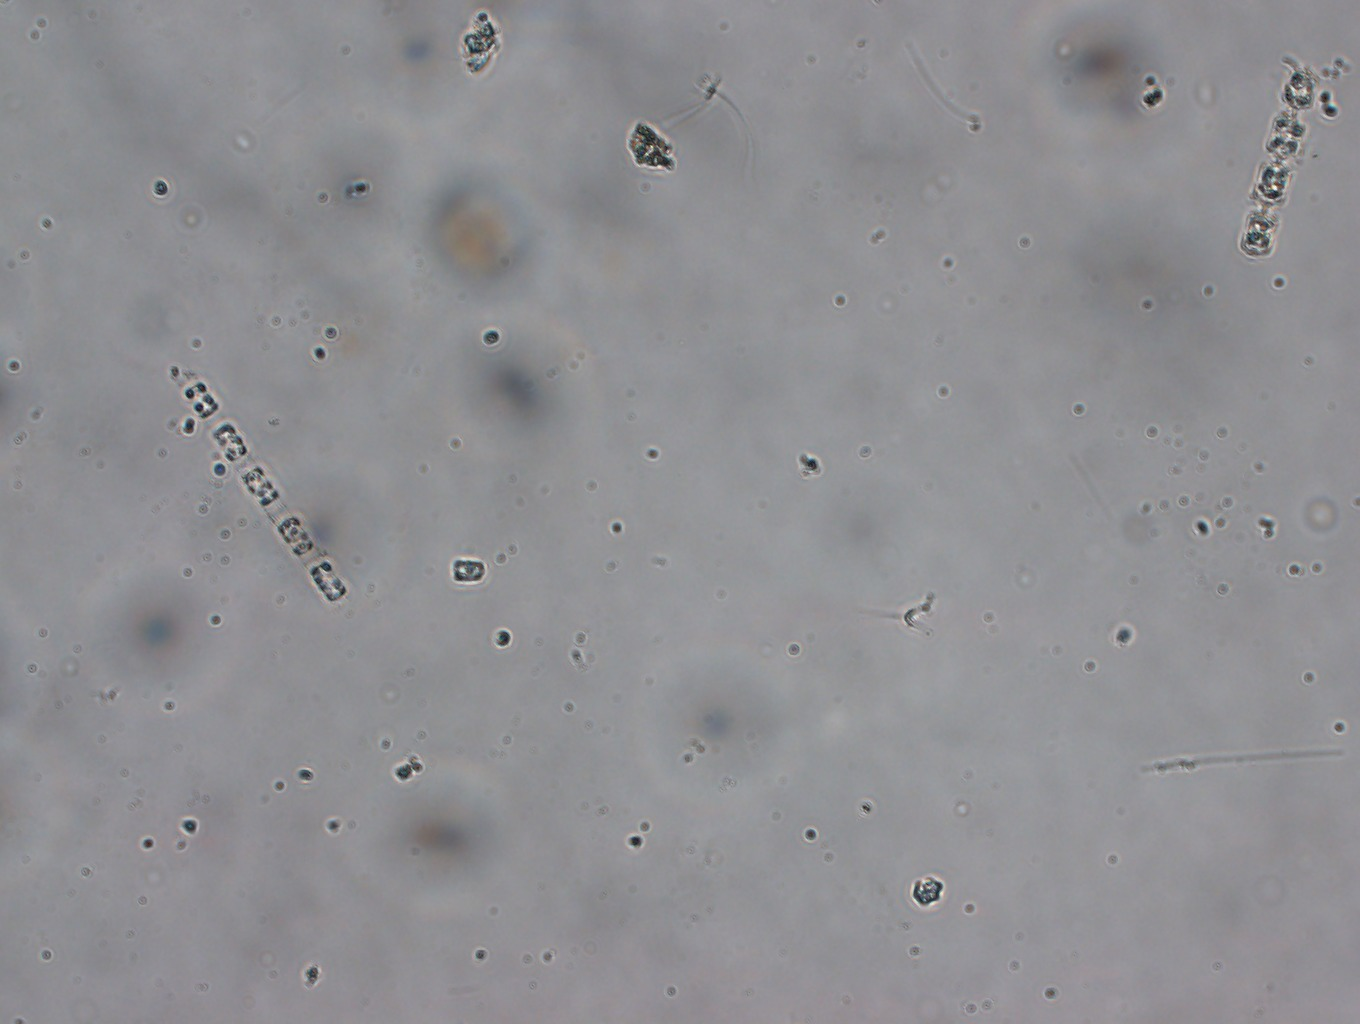chaetoceros: (1236, 56, 1319, 261)
skeletonema: (182, 379, 348, 606)
